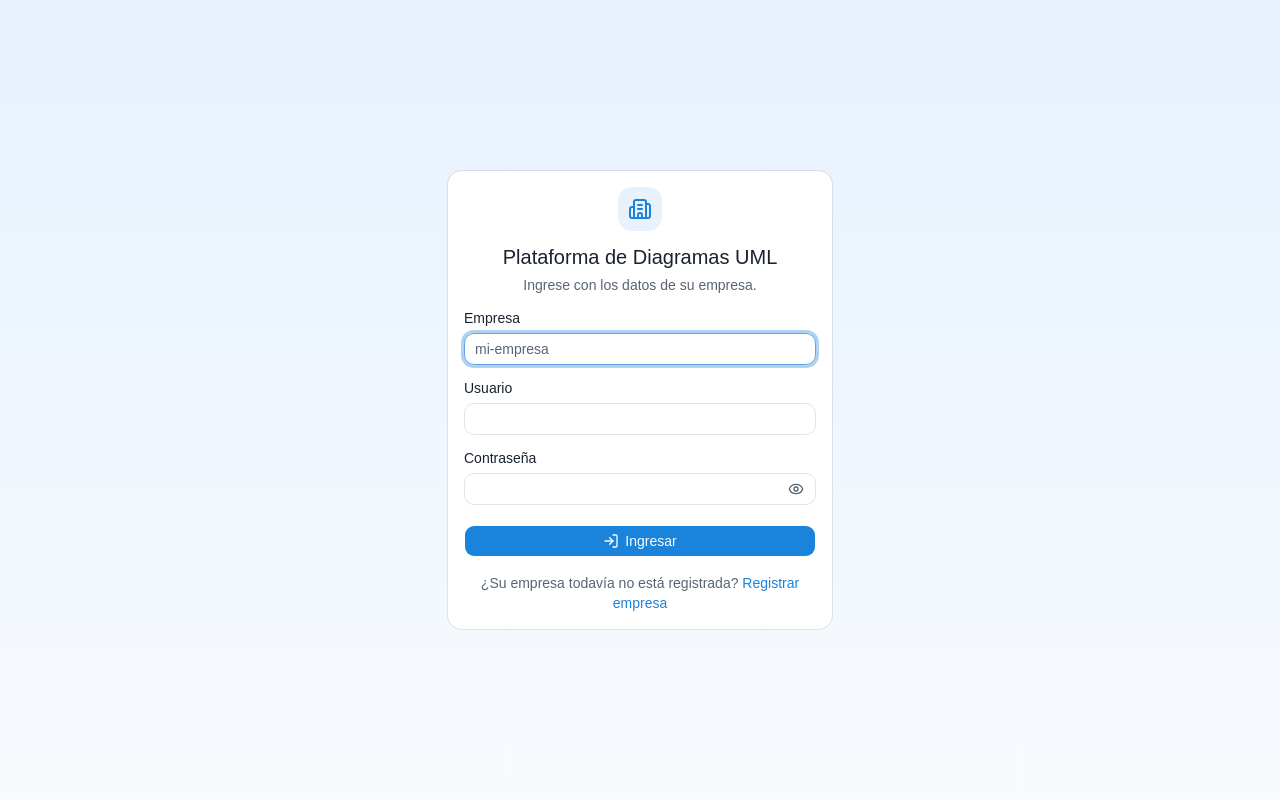
CU-01 Iniciar sesión › muestra el mensaje del backend ante USER_INACTIVE y no inicia sesión
Type "demo" into the field labelled "Empresa" at (640, 349), box [464,333,816,365]
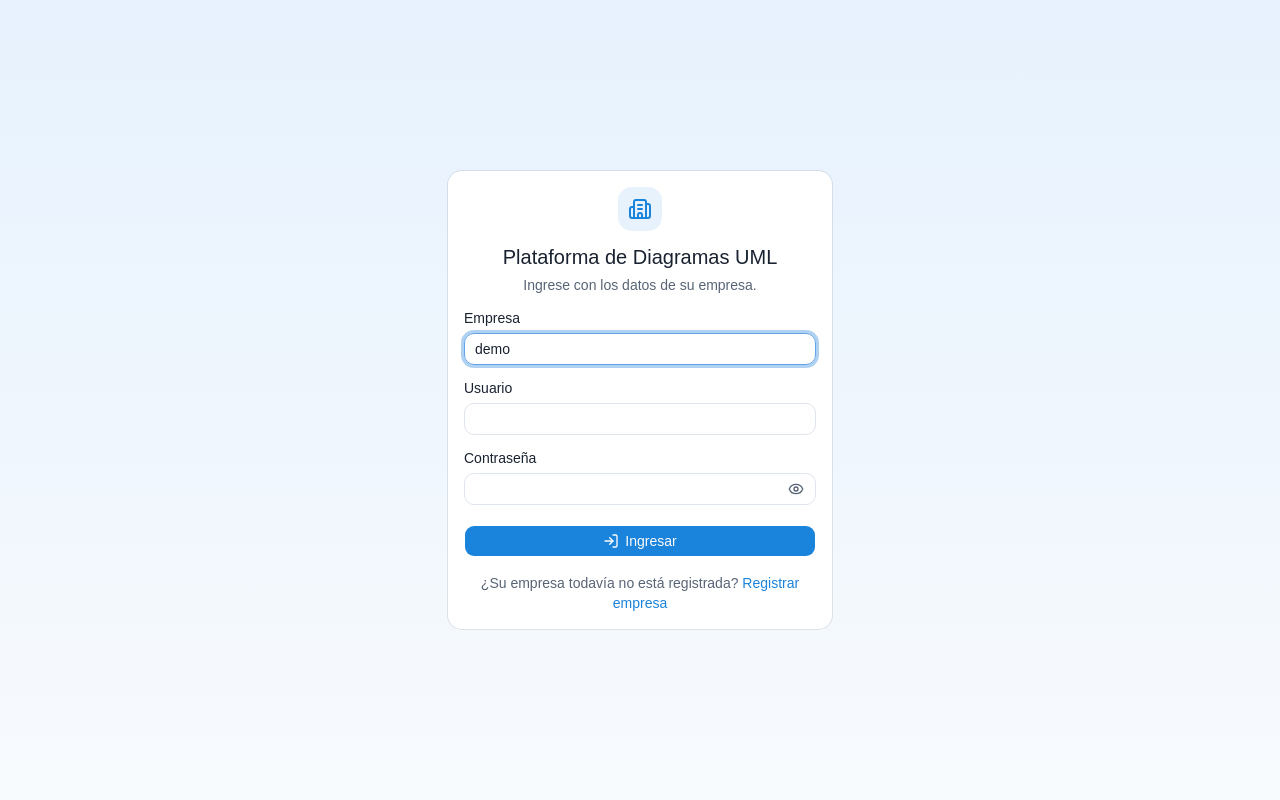
Type "designer" into the field labelled "Usuario" at (640, 419), box [464,403,816,435]
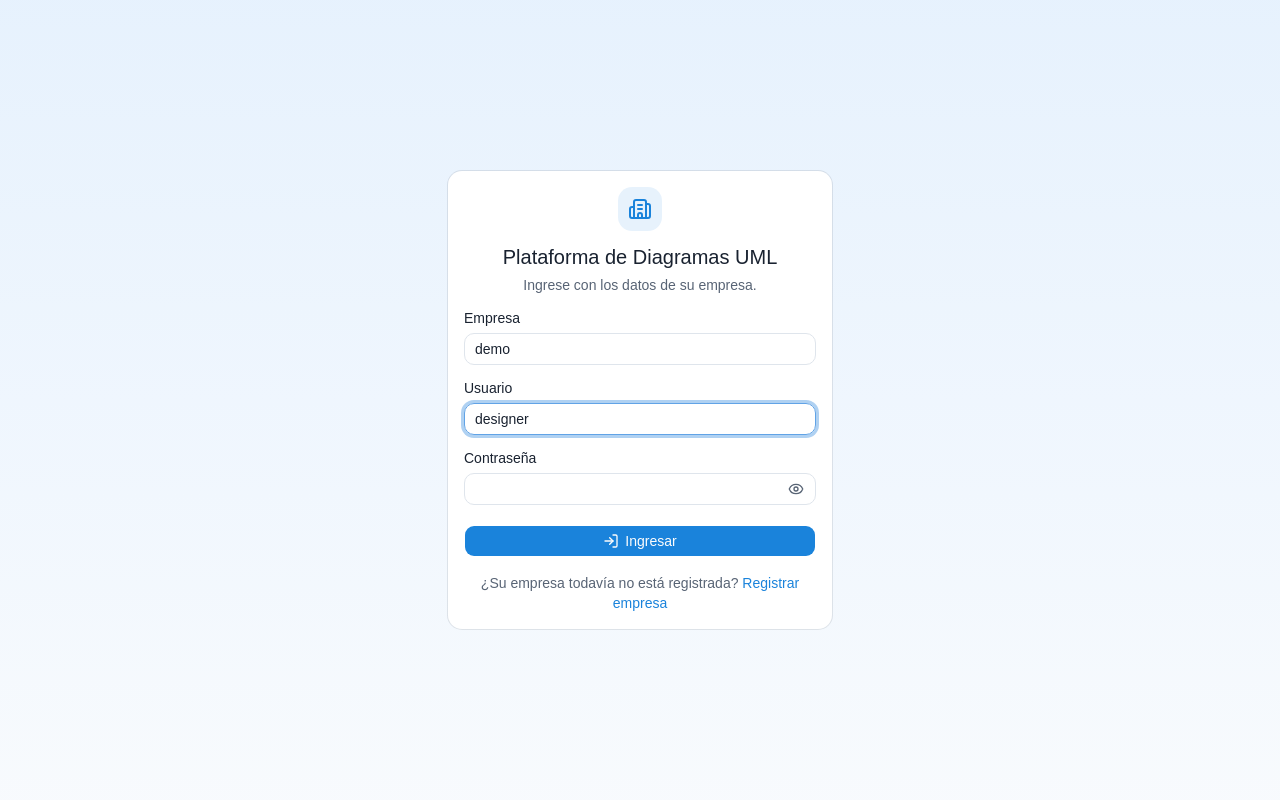
Type "mala" into the password field labelled "Contraseña" at (640, 489), box [464,473,816,505]
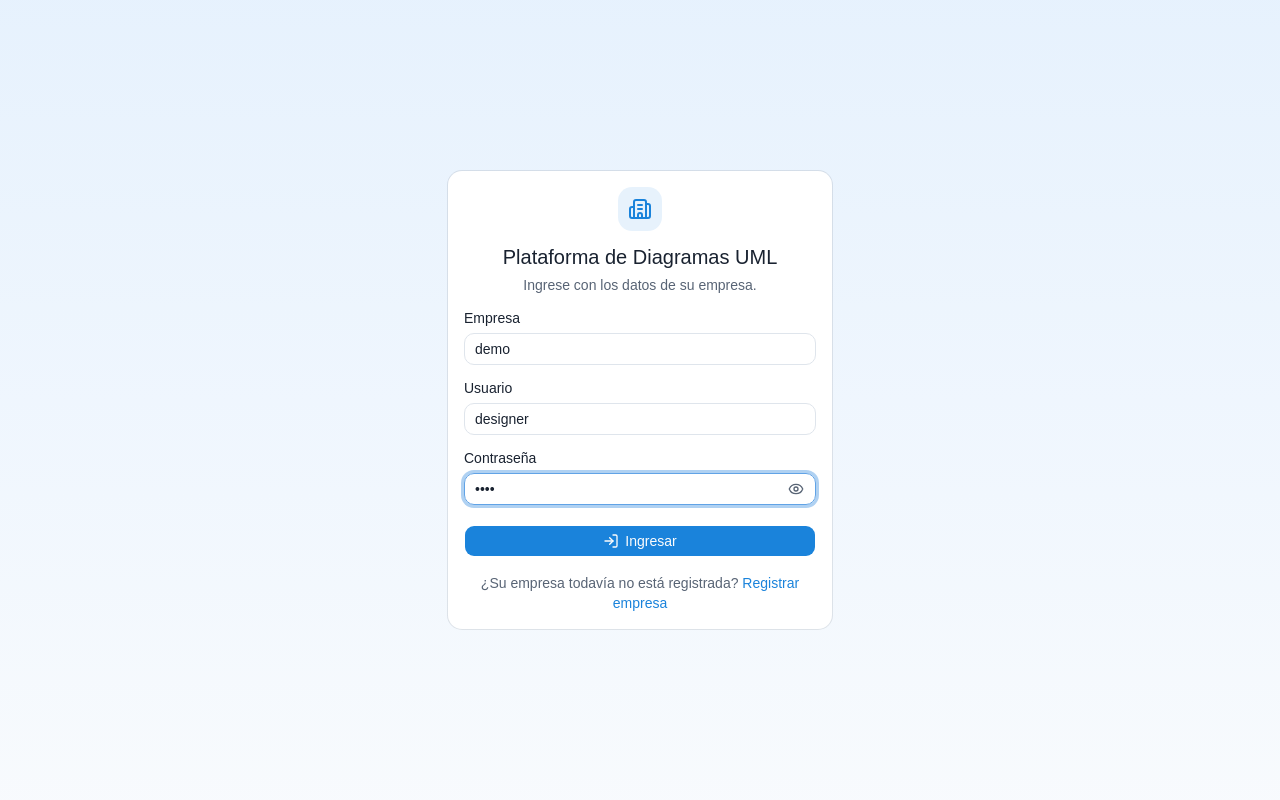
Click the button "Ingresar" at (640, 541), box [464,525,816,557]
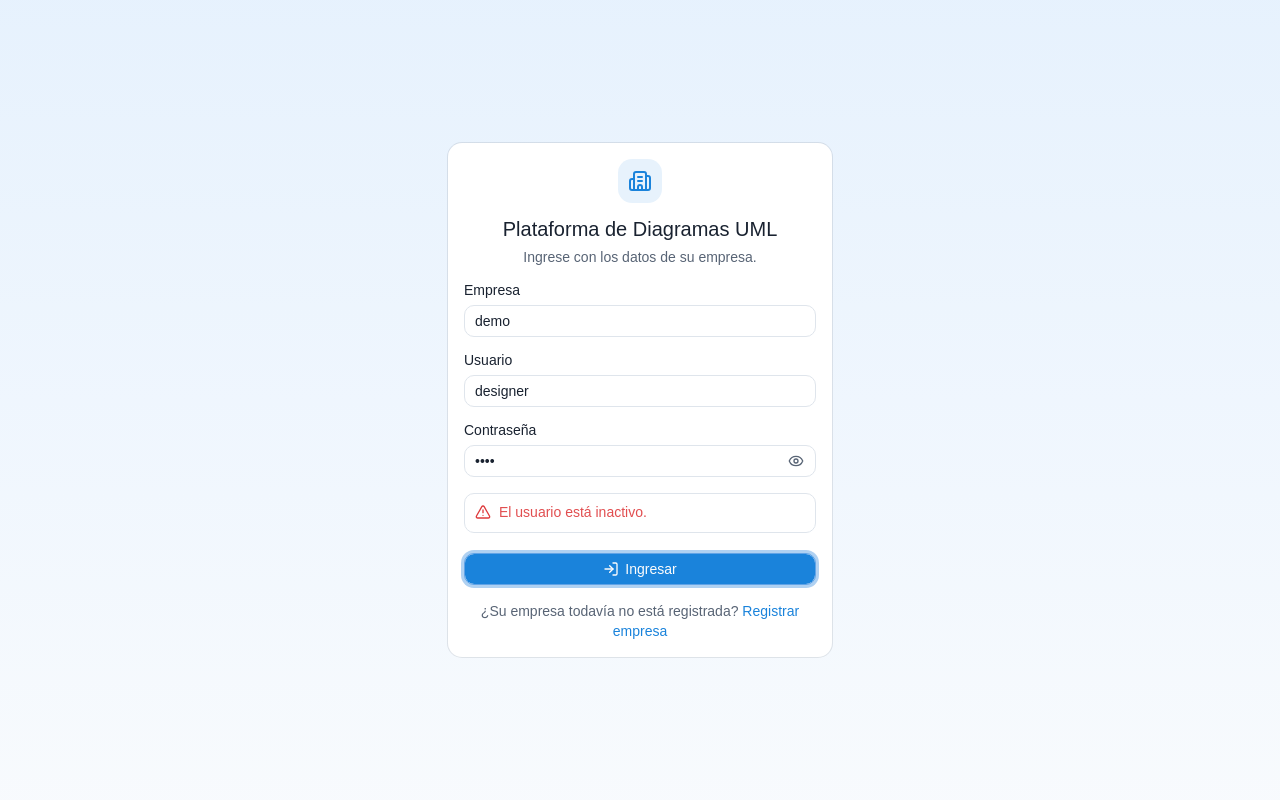
expect the message reads "El usuario está inactivo.": met, box [499,504,647,520]
